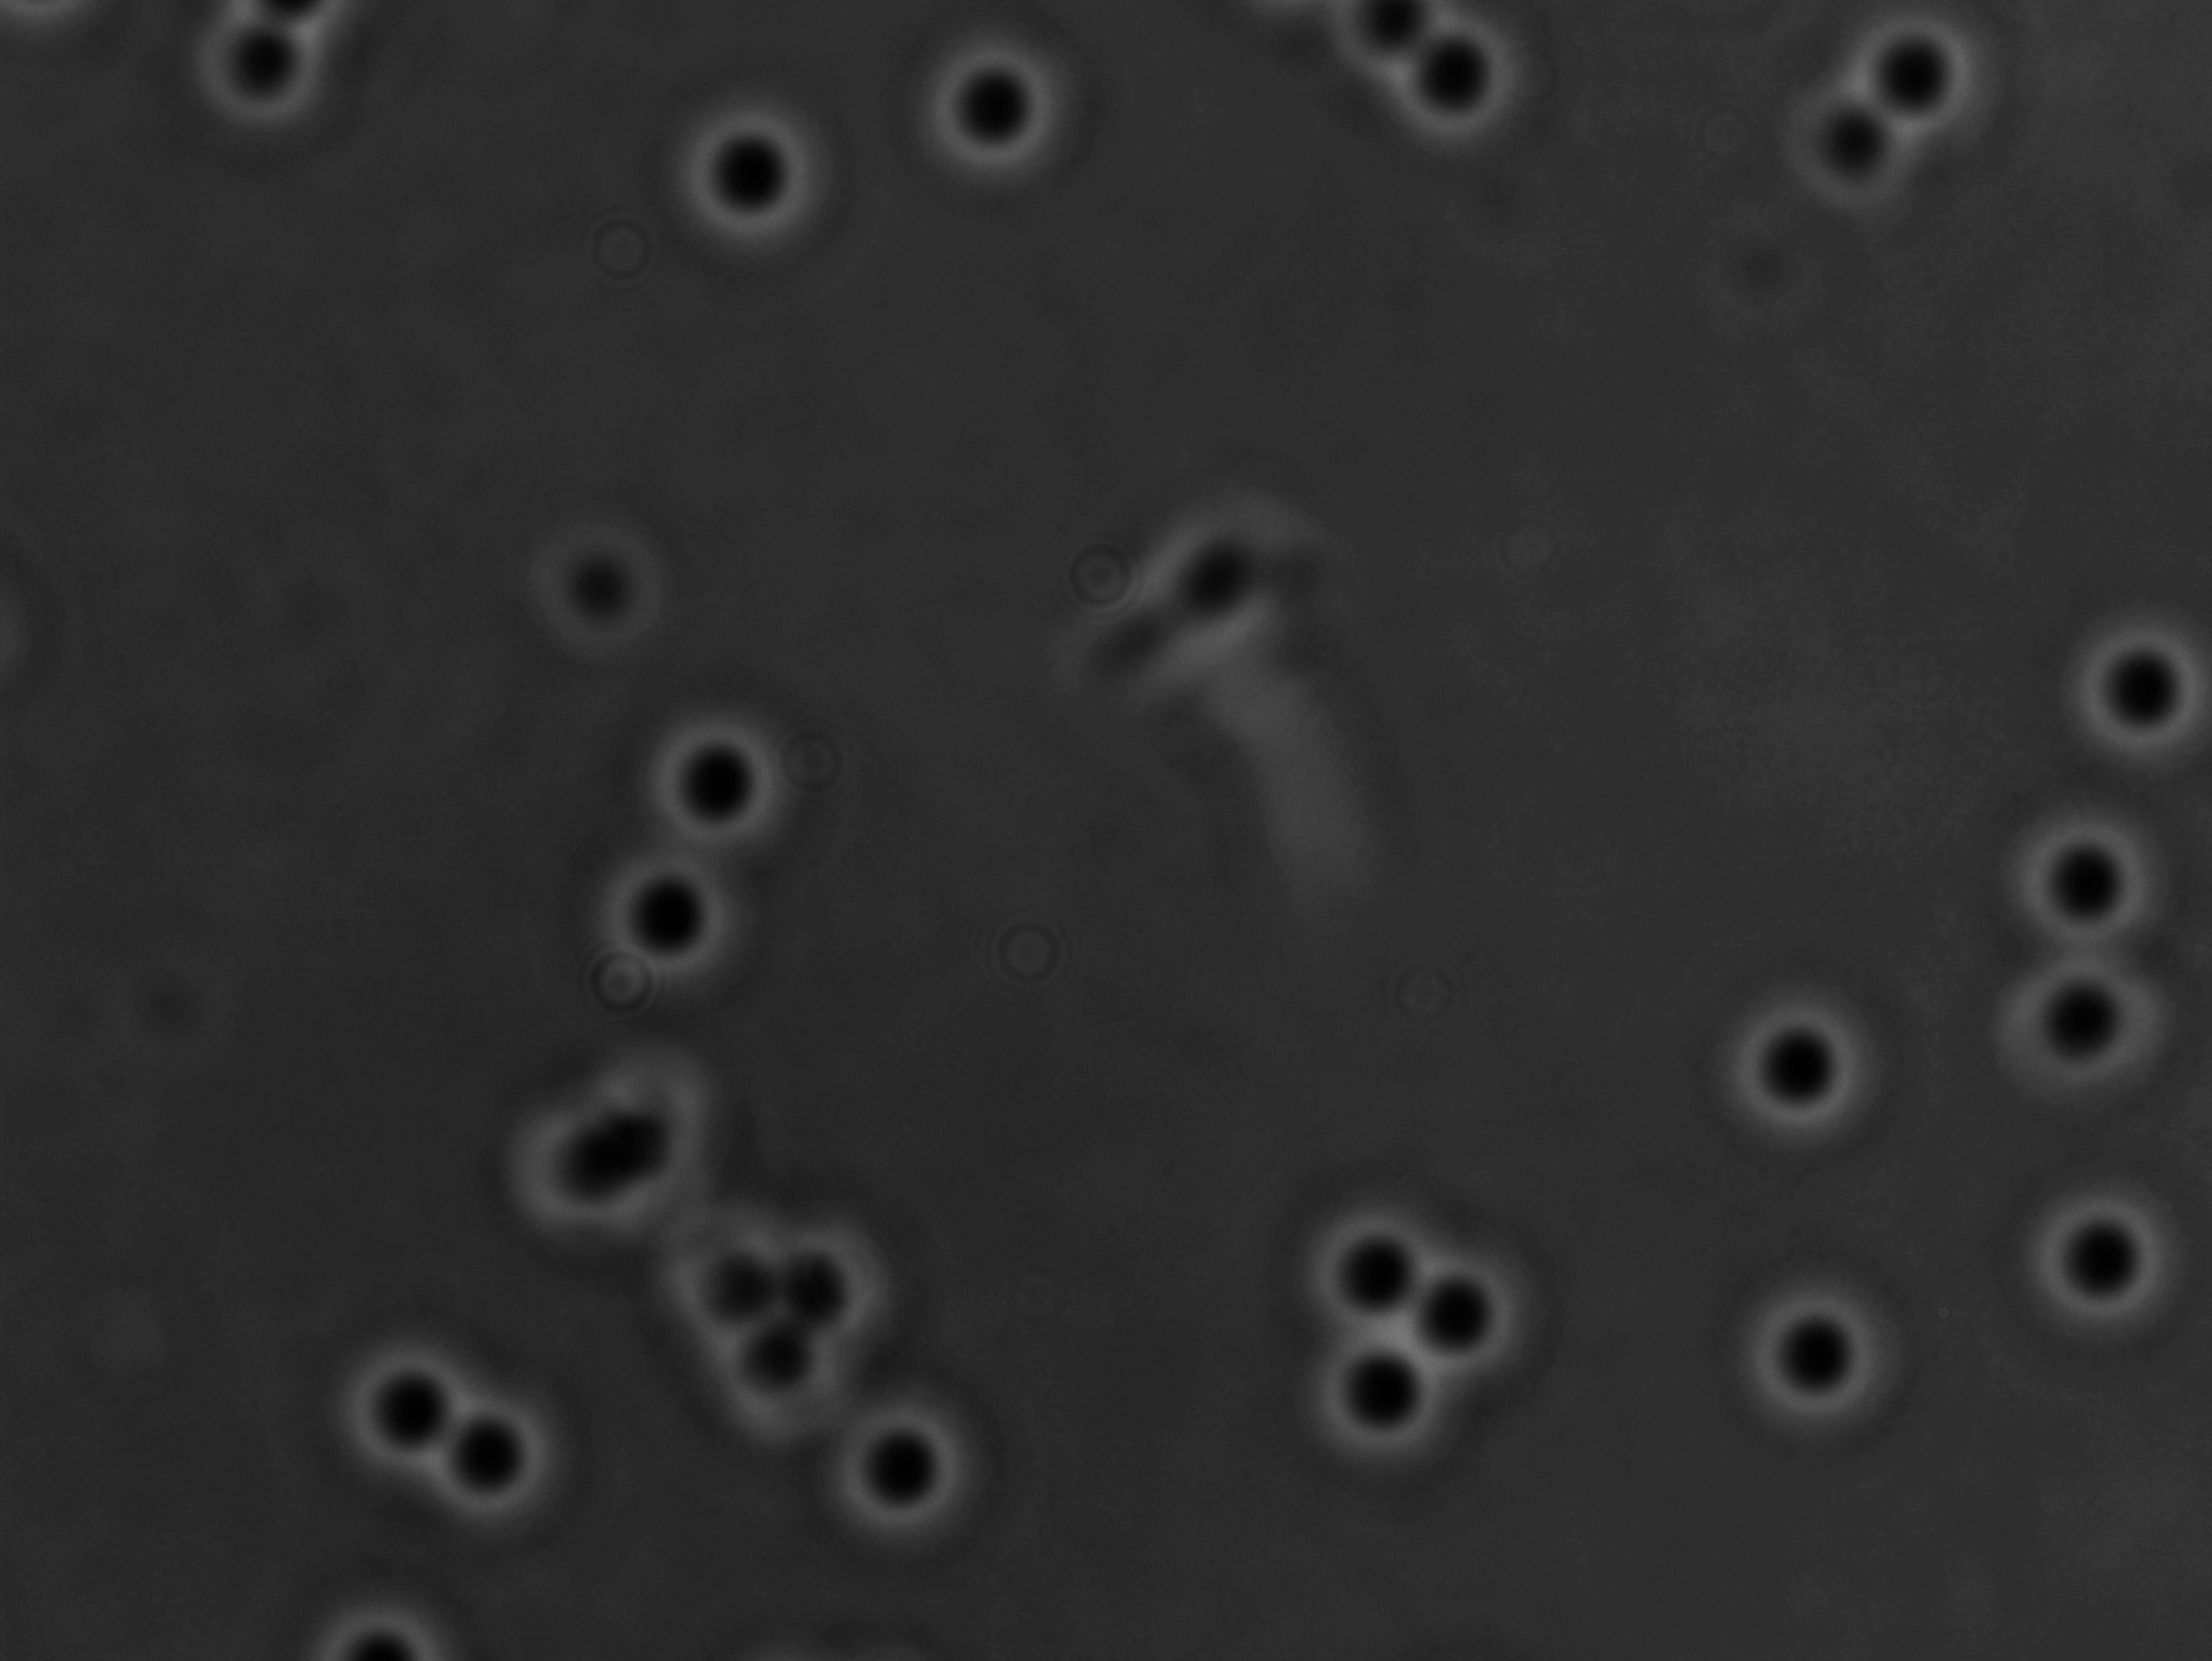depth:-80: (1261, 1160, 1467, 1363), (1989, 930, 2200, 1122), (2004, 785, 2202, 982), (1732, 1256, 1929, 1452), (324, 1312, 513, 1504), (1284, 1295, 1465, 1487), (1708, 989, 1895, 1174), (1364, 1216, 1560, 1391), (811, 1382, 994, 1567), (563, 839, 750, 1008), (2058, 590, 2212, 787), (2020, 1169, 2191, 1340), (410, 1385, 586, 1551), (635, 689, 806, 855), (902, 24, 1069, 190), (675, 92, 846, 237)
